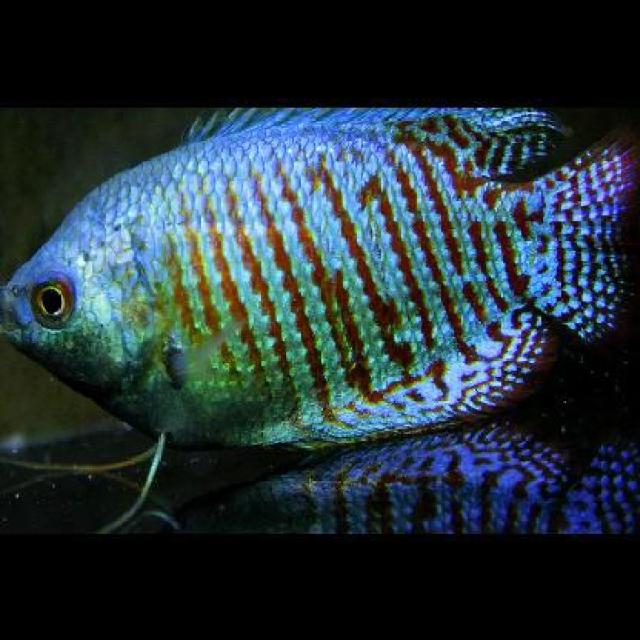Gourami: (1, 105, 638, 457)
